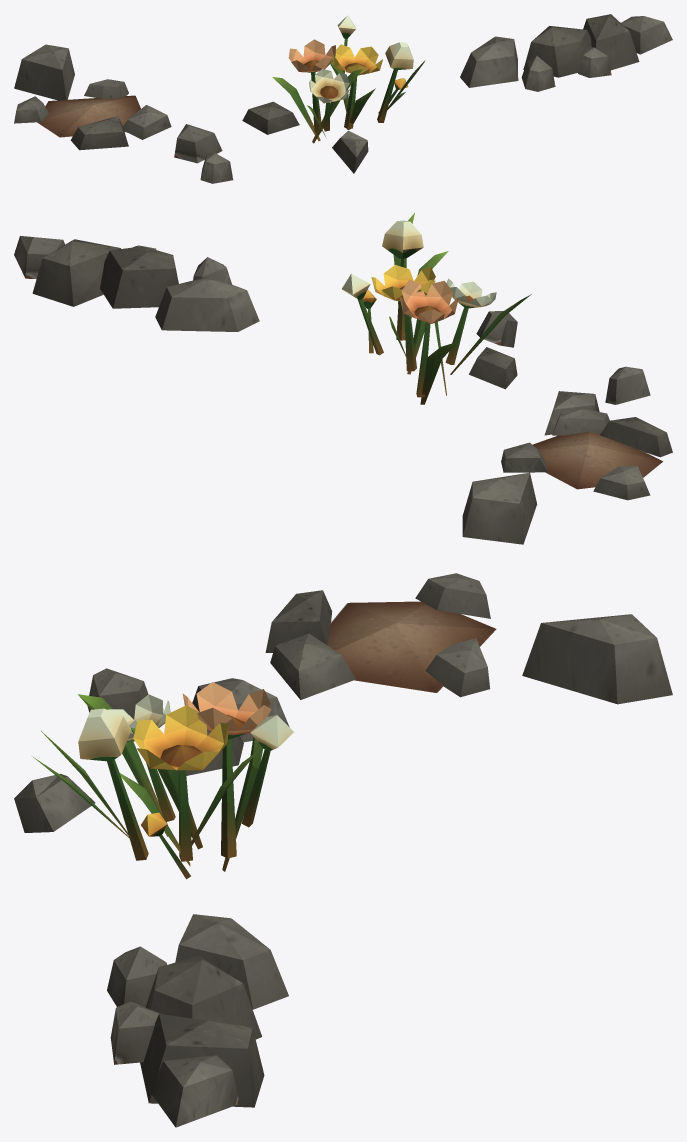
The model's file is flower_WH01_V03.FBX.
The picture shows the model from 3 angles, top to bottom: view 1: azimuth 30°, elevation 25°; view 2: azimuth 150°, elevation 25°; view 3: azimuth 270°, elevation 25°; orthographic projection. The views are drawn at different scales.
Visible parts, largest first — view 1: flower_WH01_V03; view 2: flower_WH01_V03; view 3: flower_WH01_V03.
Boxes of the visible parts, box(x1,y1,x2,y2) form: flower_WH01_V03: box(14, 14, 672, 183); flower_WH01_V03: box(14, 213, 672, 544); flower_WH01_V03: box(14, 573, 672, 1127).
Bounding box in the file's own units: 2.15 × 0.3894 × 1.13.
